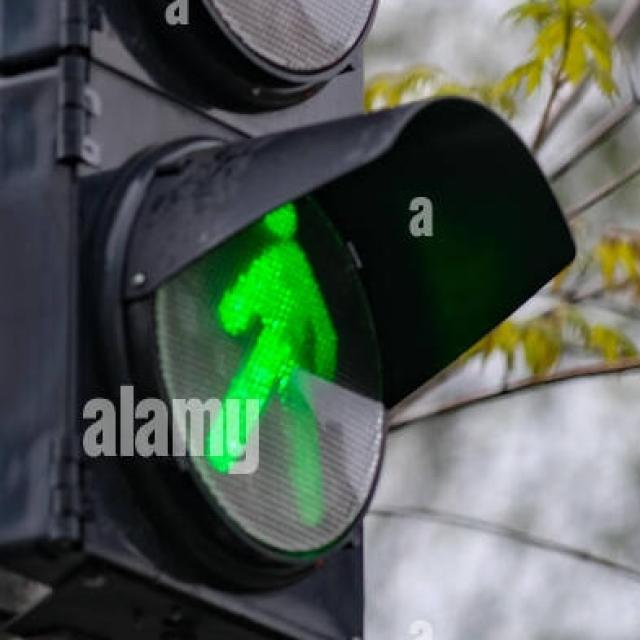green_light: (218, 150, 356, 526)
